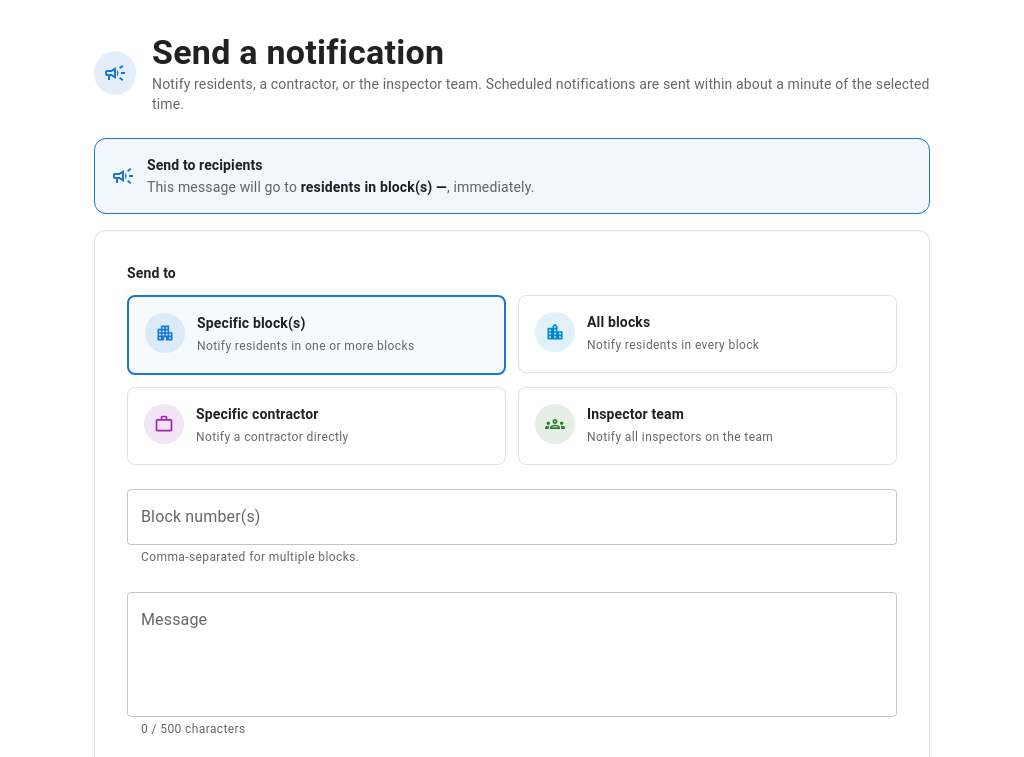
NotificationsPage manager composer — sending › only contractors with a linked login are offered
This screenshot has width=1024, height=757.
Step 1. Click the text "Specific contractor" → (257, 414), box [196, 406, 318, 422]
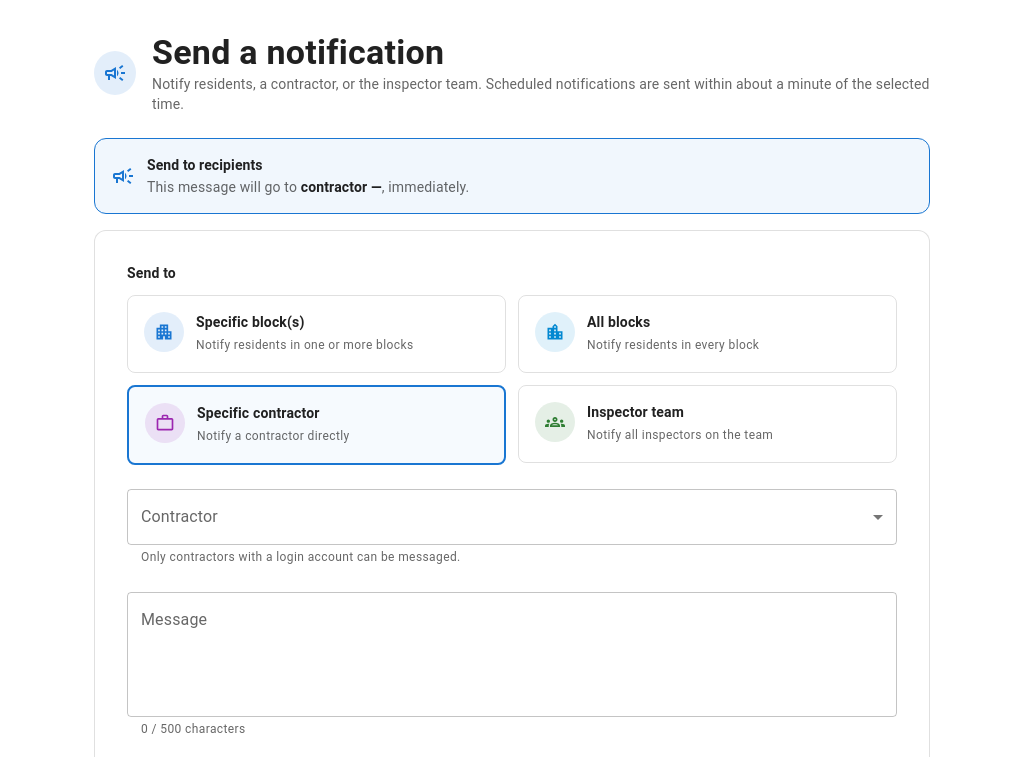
Expected: the text "Only contractors with a login account can be messaged." is shown, [141, 550, 461, 564]
Step 2. Click the dropdown named "Contractor" → (512, 517), box [127, 489, 897, 545]
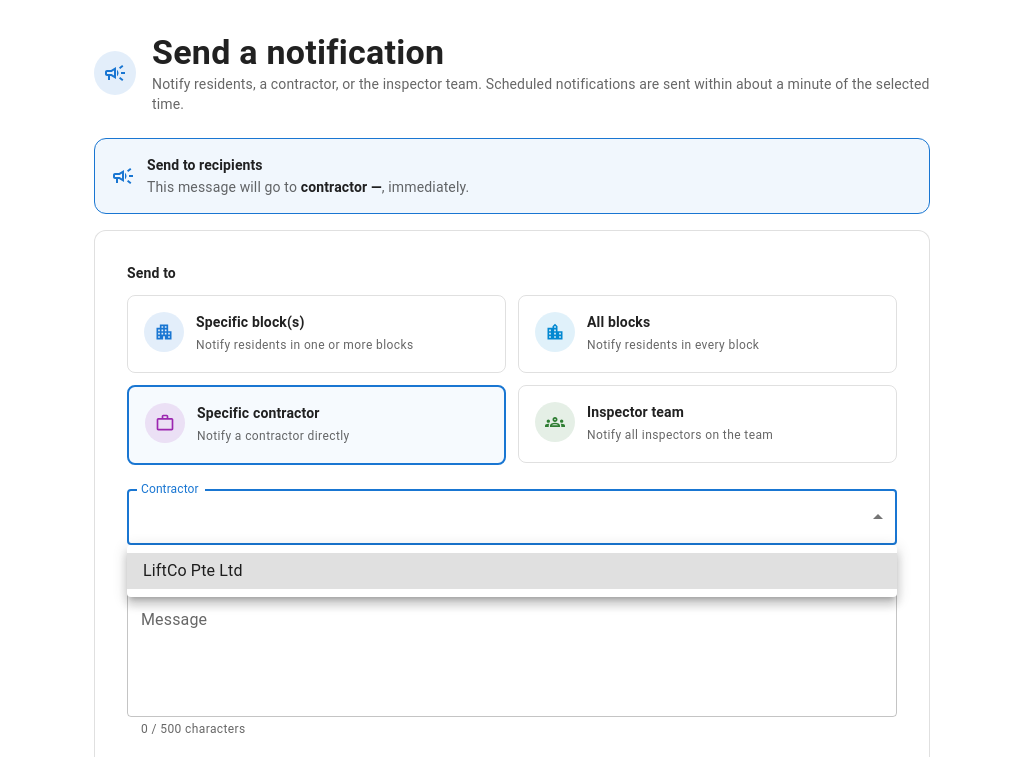
Expected: the option "LiftCo Pte Ltd" is shown, [127, 553, 897, 589]
